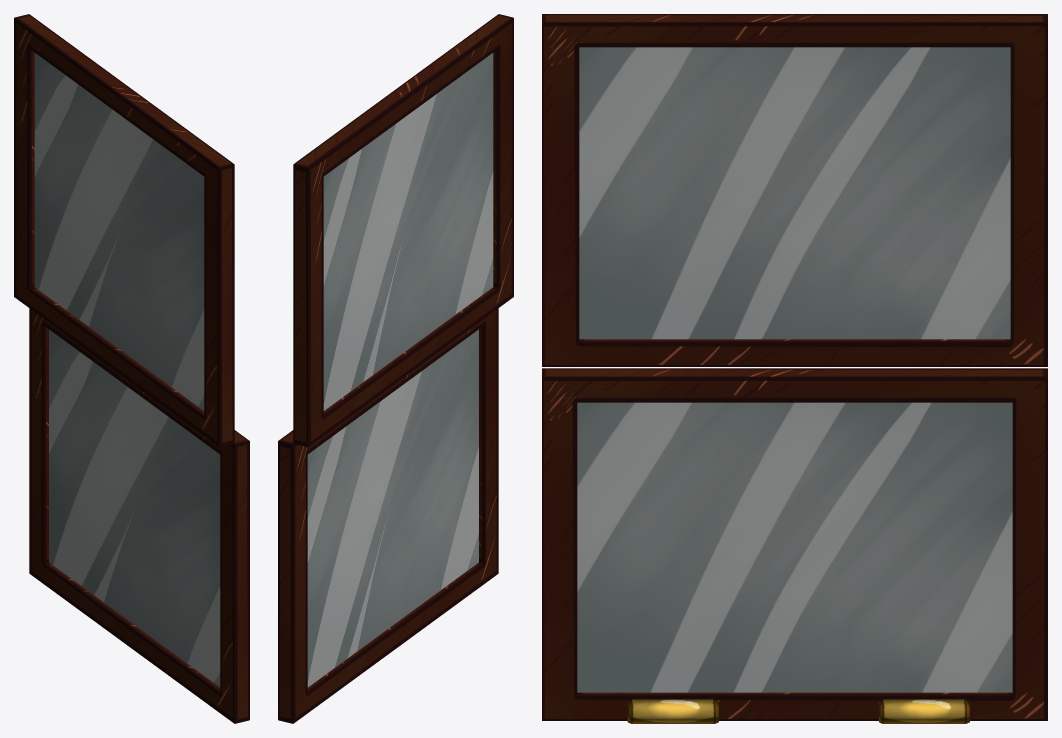
Rendered from Windowblock.fbx.
3 renders of one model, left to right at view 1: azimuth 30°, elevation 25°; view 2: azimuth 150°, elevation 25°; view 3: azimuth 270°, elevation 25°, orthographic. The views are drawn at different scales.
Visible parts, largest first — view 1: Window_Up, Window_Below; view 2: Window_Up, Window_Below; view 3: Window_Below, Window_Up.
Boxes of the visible parts, bbox=[...] form: Window_Up: bbox=[14, 14, 234, 447]; Window_Below: bbox=[29, 308, 249, 723]; Window_Up: bbox=[293, 14, 513, 447]; Window_Below: bbox=[278, 308, 498, 723]; Window_Below: bbox=[542, 368, 1047, 723]; Window_Up: bbox=[542, 14, 1047, 366].
Bounding box in the file's own units: 0.1036 × 1.2 × 0.8.
